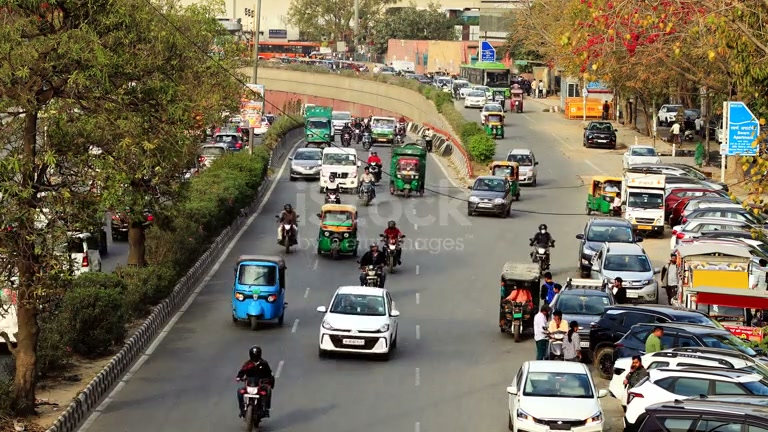bus: (676, 238, 768, 326), (303, 105, 333, 146)
car: (589, 307, 763, 373), (622, 368, 768, 427), (505, 360, 605, 432), (316, 285, 401, 361), (589, 242, 658, 303), (632, 399, 767, 430), (230, 256, 288, 328), (577, 217, 642, 276), (546, 288, 616, 335), (466, 176, 514, 218), (288, 148, 323, 180), (583, 120, 617, 148), (622, 146, 660, 171)
motorcycle: (235, 373, 273, 432), (383, 235, 404, 271), (359, 261, 387, 288), (277, 221, 299, 253), (529, 245, 554, 273), (359, 180, 377, 206)
pedestrian: (234, 345, 274, 414), (359, 241, 387, 287), (660, 250, 682, 307), (544, 310, 568, 360), (529, 223, 556, 267), (382, 220, 405, 265), (533, 304, 550, 360), (276, 203, 300, 242), (561, 320, 583, 361), (277, 203, 299, 232), (608, 276, 628, 304)
truck: (621, 171, 667, 238), (316, 203, 359, 259), (388, 143, 428, 197), (317, 146, 360, 195), (303, 104, 333, 145)
